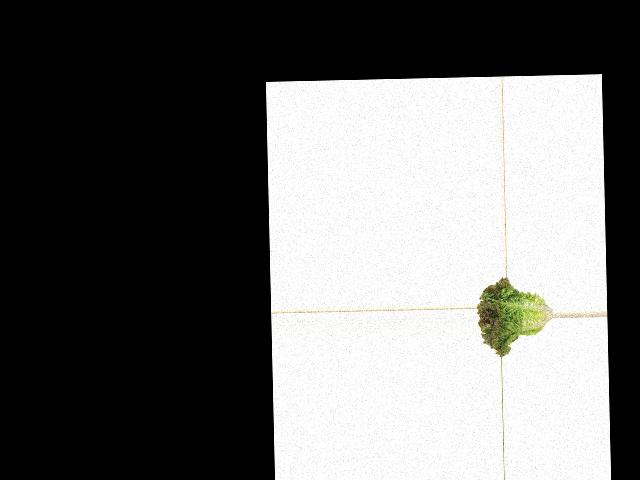lettuce: (477, 277, 554, 357)
